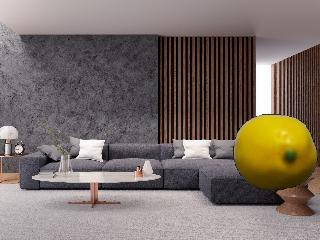lemon: (235, 115, 316, 190)
